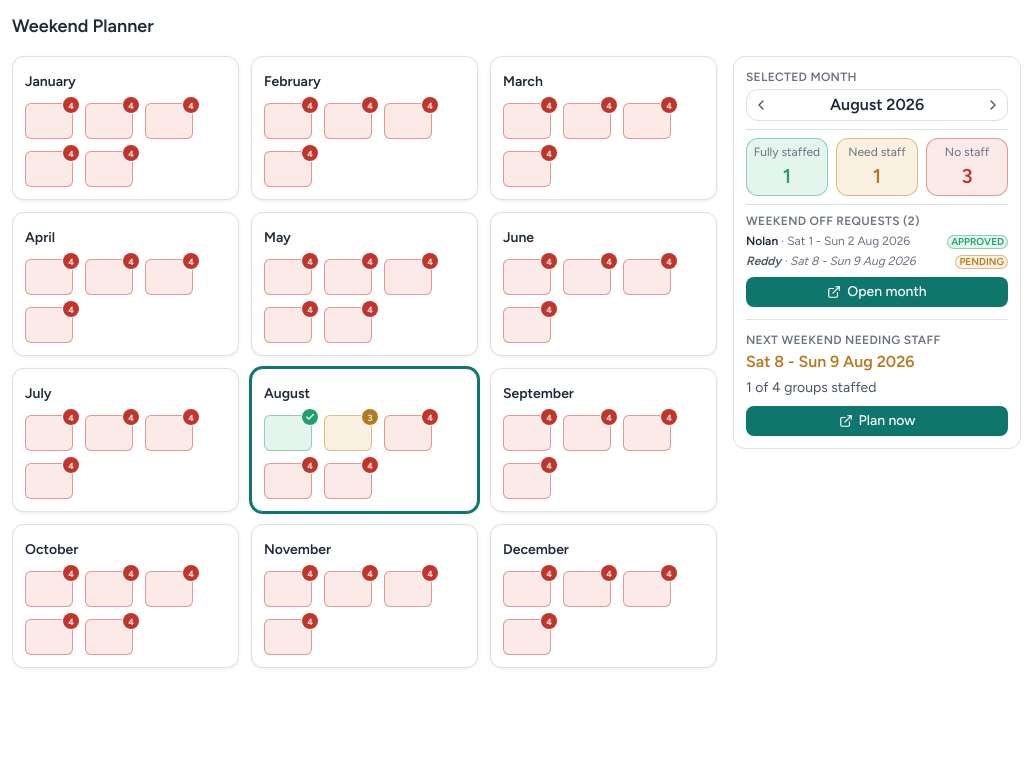
it: WeekendYearOverview › weekend exceptions in the Selected month panel › omits the section entirely for a month with no exceptions
Click the button "September 4 4 4 4": (604, 440) [490, 368, 717, 512]
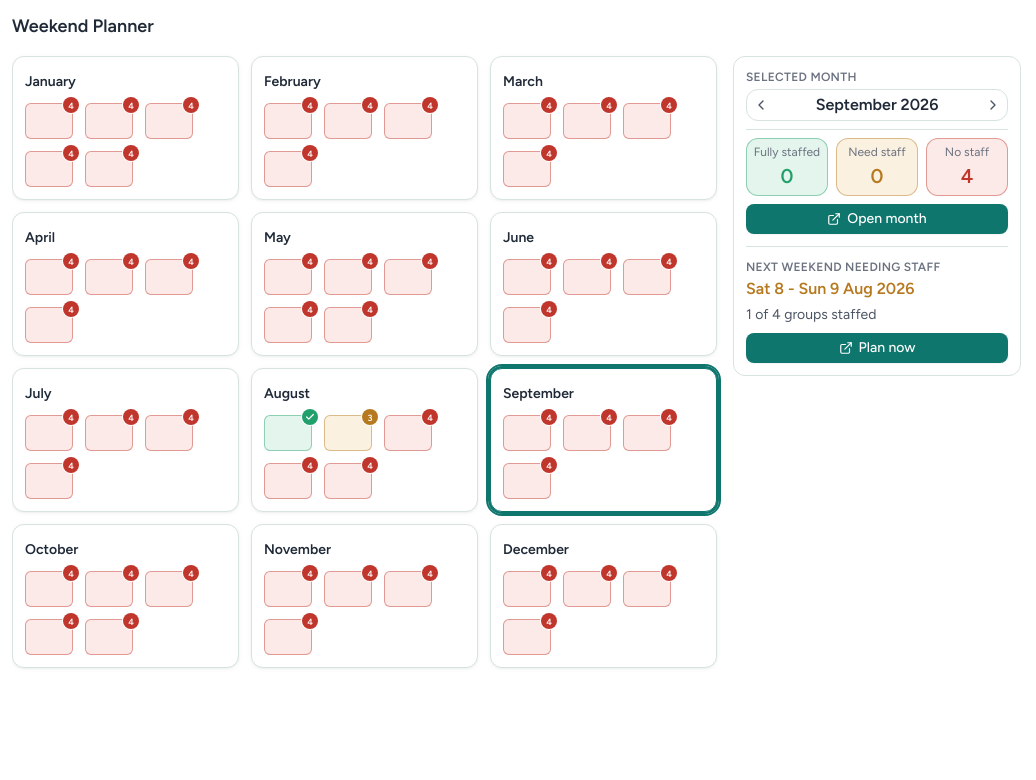
Expected: the element with test id "weekend-exception-list" is gone
